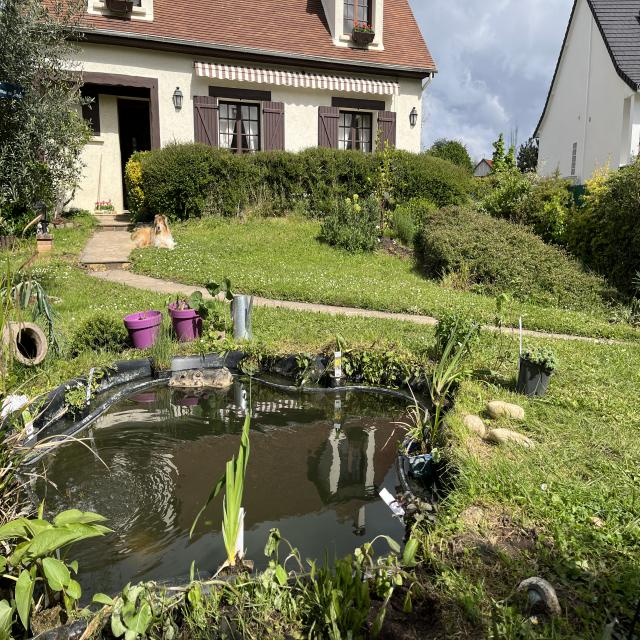Dog: (124, 202, 186, 262)
